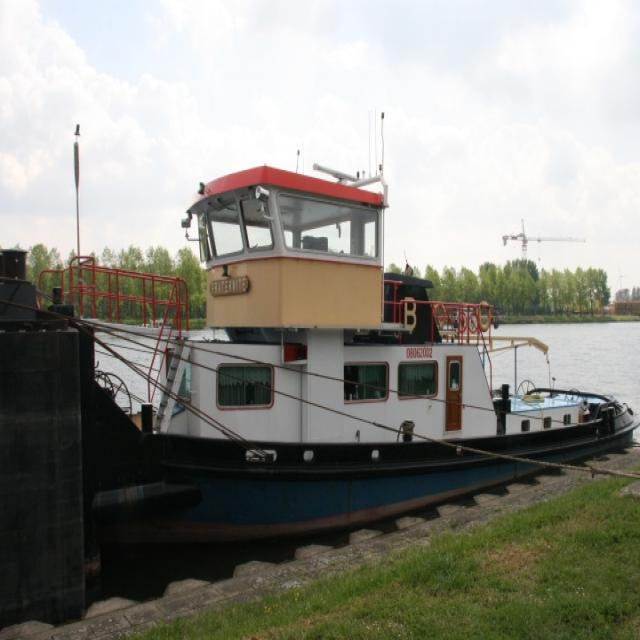tugboat: (1, 158, 640, 533)
